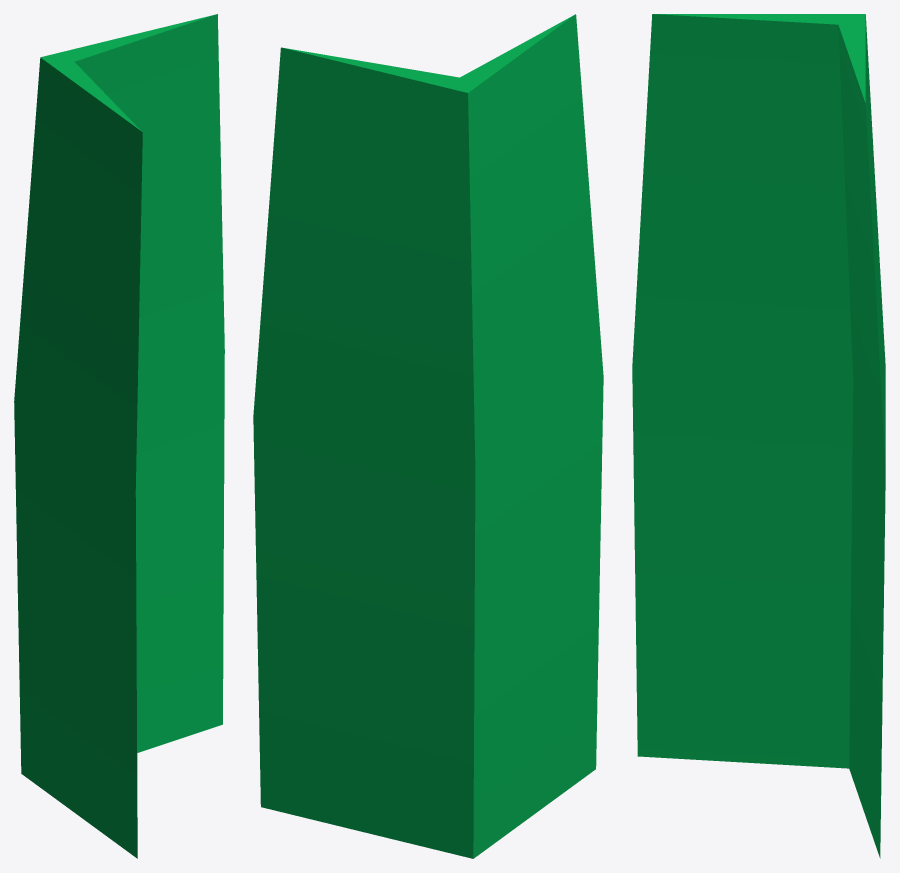
The model's file is shortGrassA.fbx.
3 views of the same model, side by side, from view 1: azimuth 30°, elevation 25°; view 2: azimuth 150°, elevation 25°; view 3: azimuth 270°, elevation 25° (orthographic). The views are drawn at different scales.
Visible parts, largest first — view 1: ShortGrassA; view 2: ShortGrassA; view 3: ShortGrassA.
Boxes of the visible parts, left/top/right/bottom form: ShortGrassA: left=14, top=14, right=224, bottom=858; ShortGrassA: left=253, top=14, right=603, bottom=858; ShortGrassA: left=632, top=14, right=885, bottom=858.
Size of the model in its own units: 1.05 by 3.41 by 1.05.
